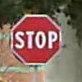stop: (10, 14, 62, 65)
